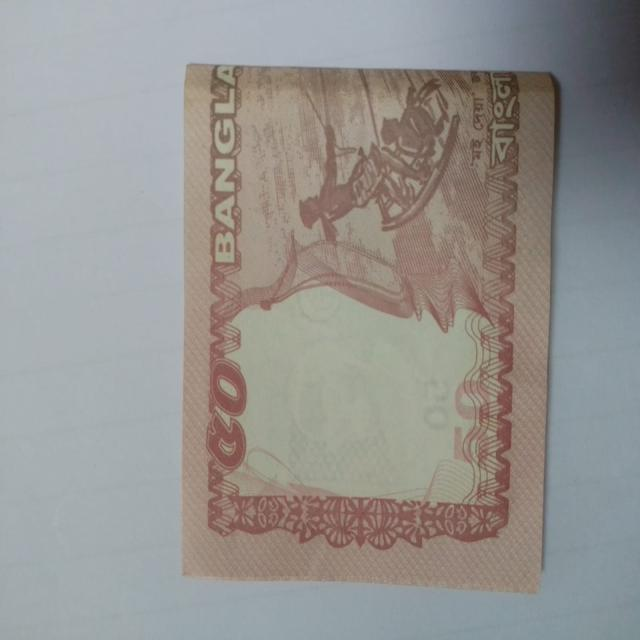Taka: (177, 48, 544, 586)
